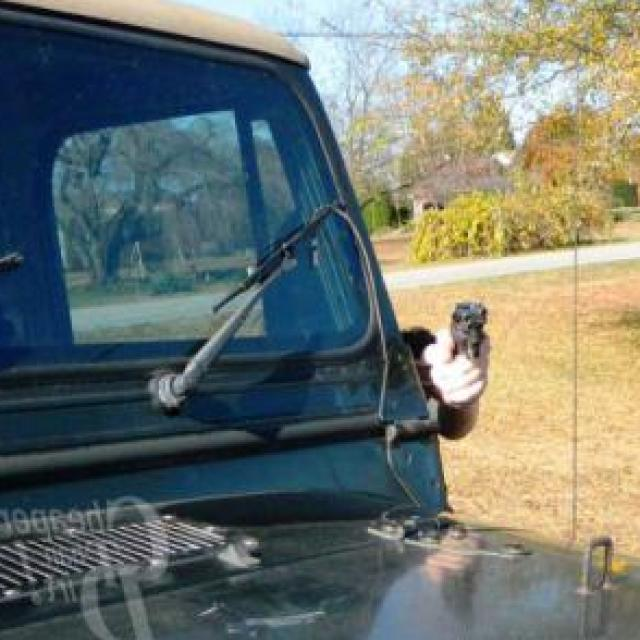pistol: (441, 302, 490, 398)
